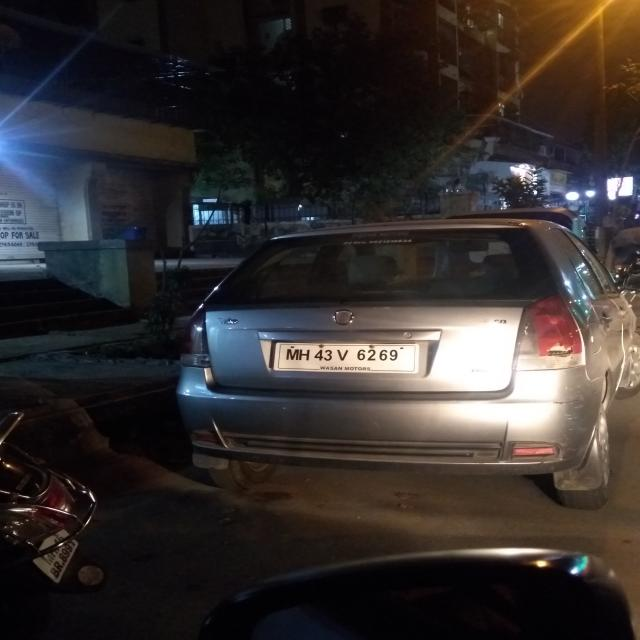Number-Plate: (279, 340, 414, 372)
